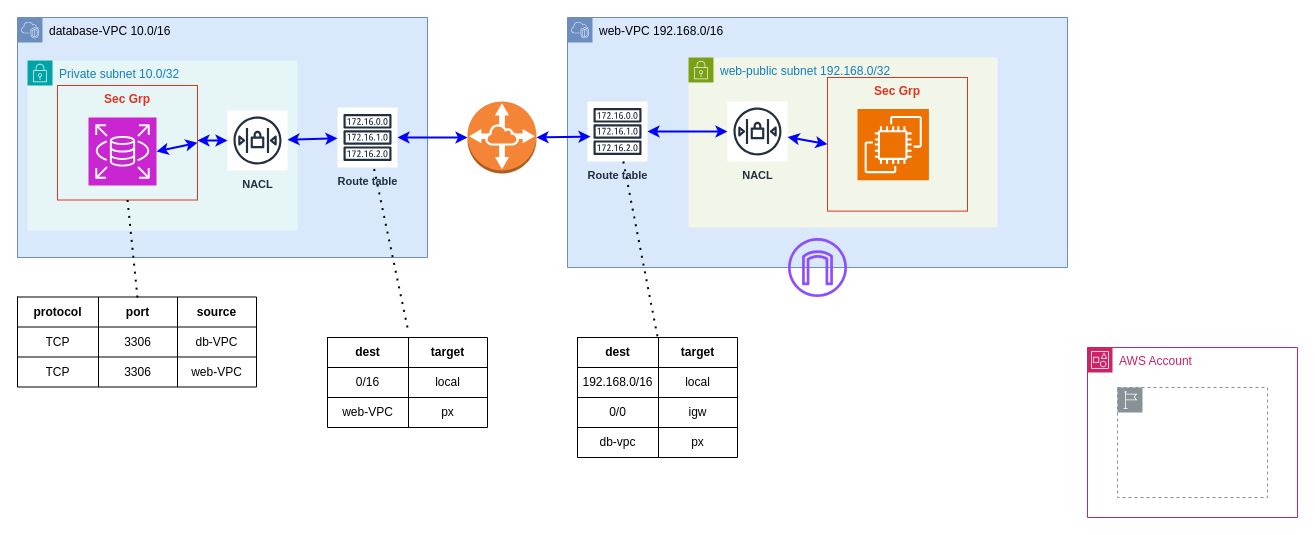
This 1315x535 diagram has some shape labels left out. Here are the shapes that lost their labels. From the top down, the centre of each, then its label:
At [501,137]: "VPC Peering".
At [817,267]: "webIG".
At [1192,442]: "us-east-1".
